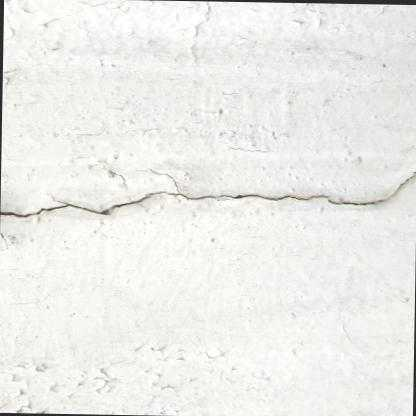crack: (0, 165, 416, 218)
